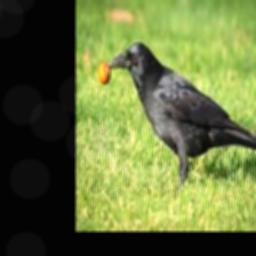Crow: (108, 40, 256, 185)
